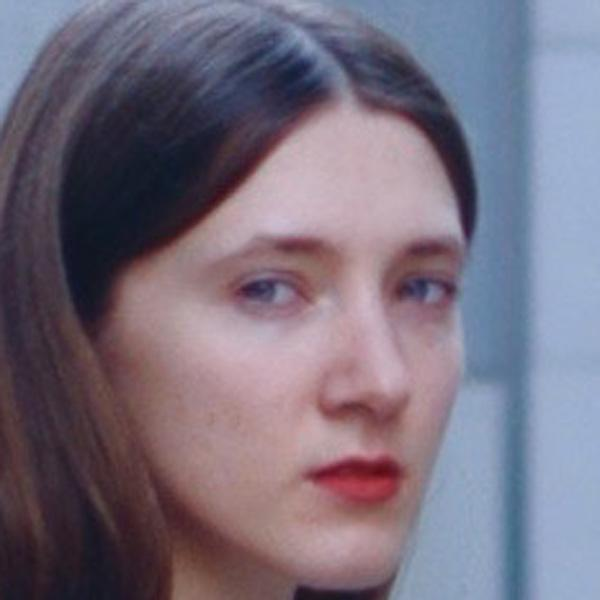Eyes: (226, 258, 319, 322), (386, 266, 461, 322)
